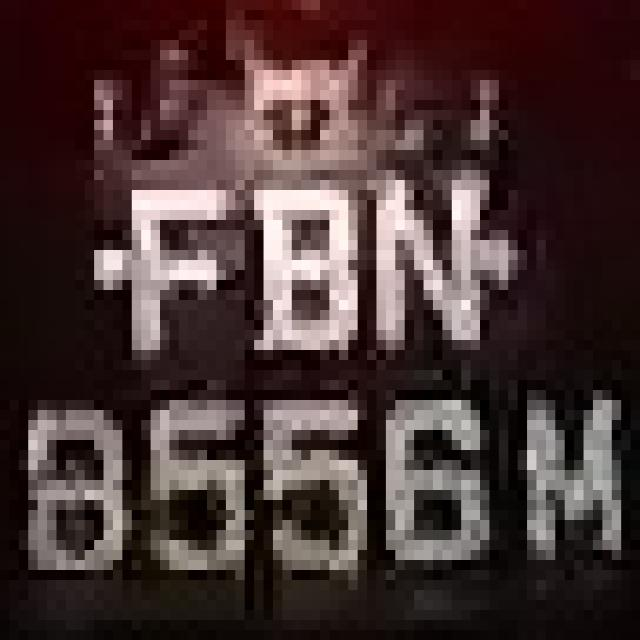5: (236, 360, 376, 590), (132, 360, 254, 580)
6: (358, 380, 498, 600)
8: (10, 370, 142, 610)
B: (235, 150, 358, 380)
F: (85, 140, 226, 370)
M: (518, 350, 612, 590)
N: (358, 140, 518, 380)
